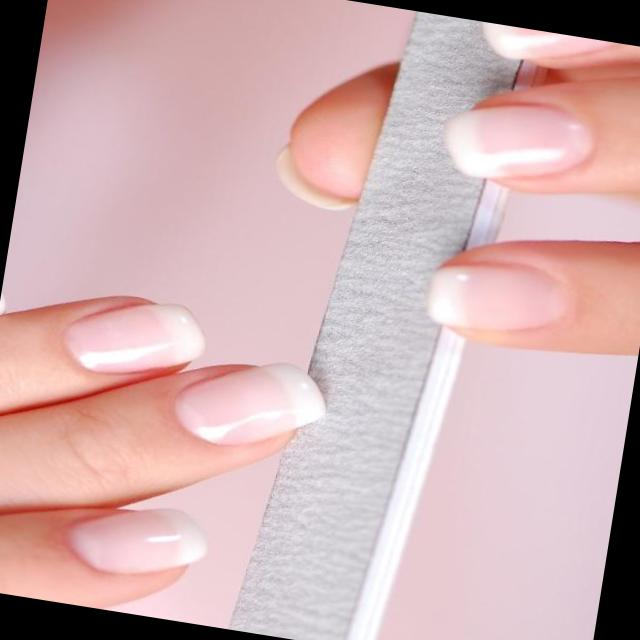Nail: (173, 362, 326, 446), (445, 106, 592, 179), (65, 304, 205, 374), (67, 509, 206, 575), (427, 265, 565, 331), (274, 142, 357, 210), (477, 21, 613, 61)
